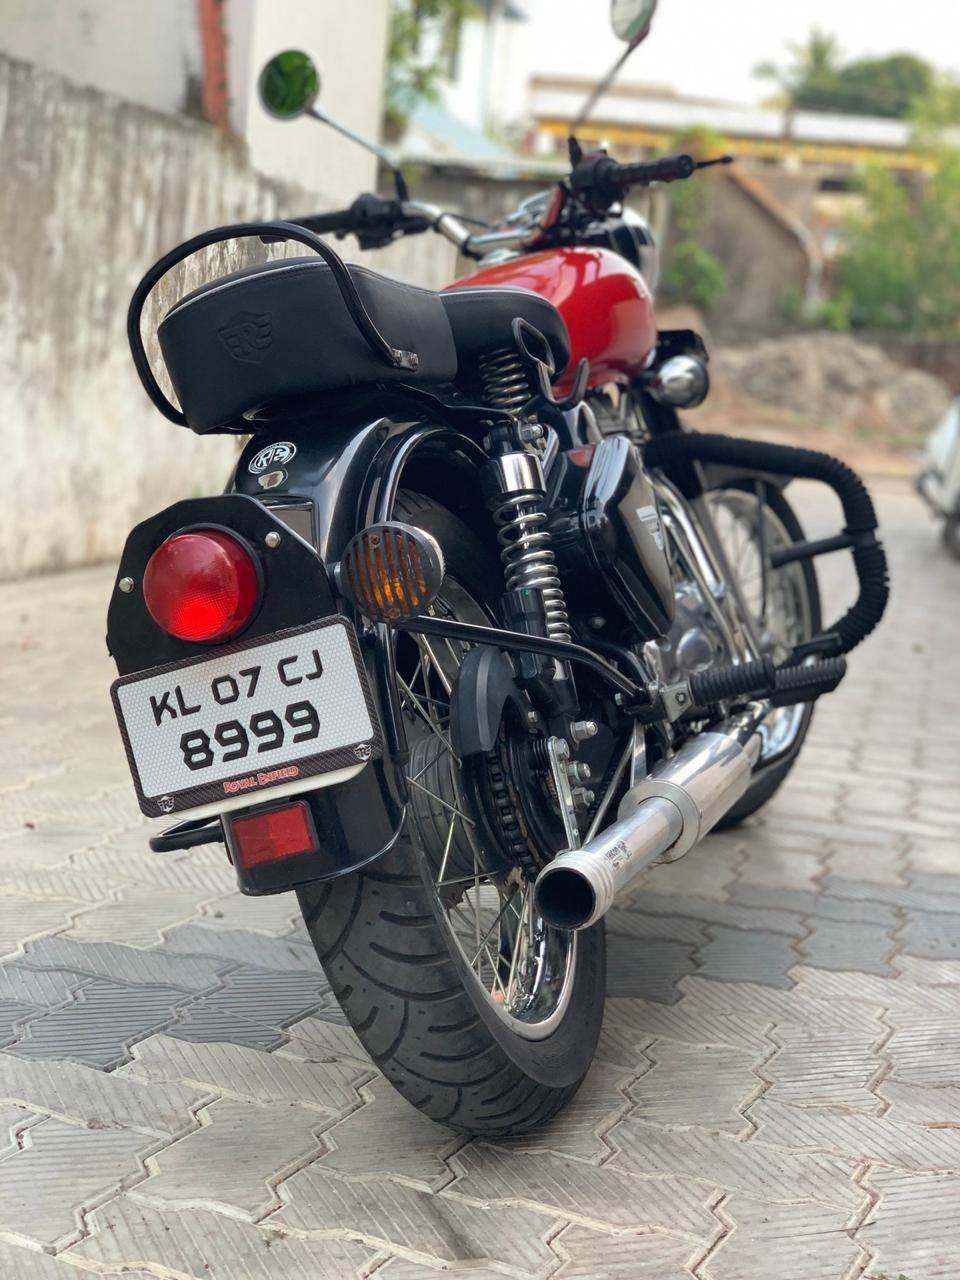plate: (90, 619, 400, 814)
